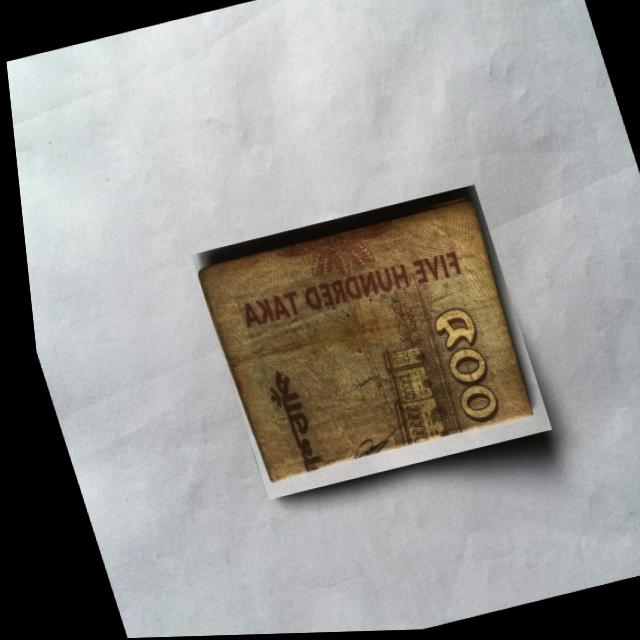Taka: (181, 186, 547, 502)
